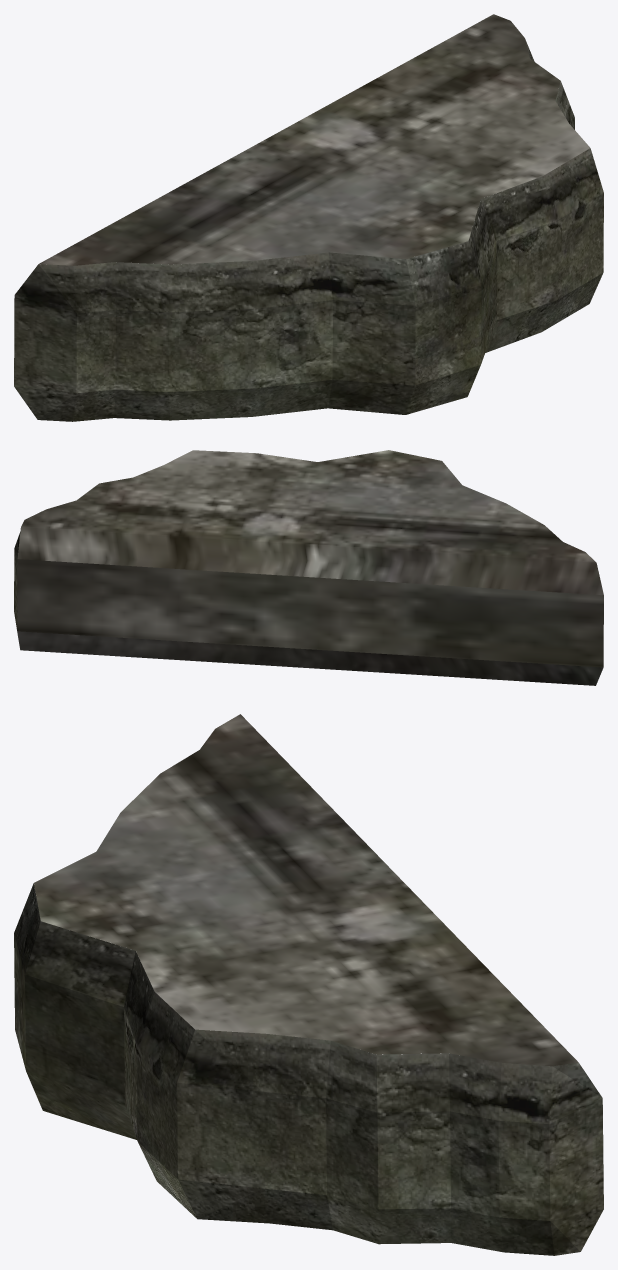
Rendered from TW2_9_ADDONS_12_6_2-transformed.glb.
The picture shows the model from 3 angles, top to bottom: view 1: azimuth 30°, elevation 25°; view 2: azimuth 150°, elevation 25°; view 3: azimuth 270°, elevation 25°; orthographic projection. The views are drawn at different scales.
Visible parts, largest first — view 1: default; view 2: default; view 3: default.
Part boxes in pixels (left/top/right/bottom): default: left=14, top=14, right=603, bottom=421; default: left=14, top=450, right=603, bottom=685; default: left=14, top=714, right=603, bottom=1255.
Bounding box in the file's own units: 1.19 × 0.2884 × 0.7925.
Materials: 2 (2 with a texture image).
